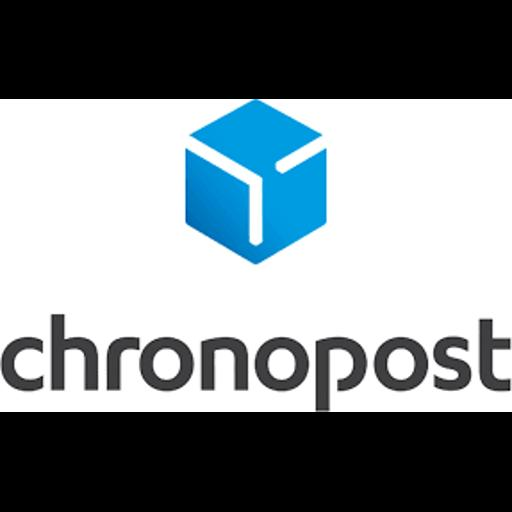Chronopost International: (0, 99, 512, 412)
